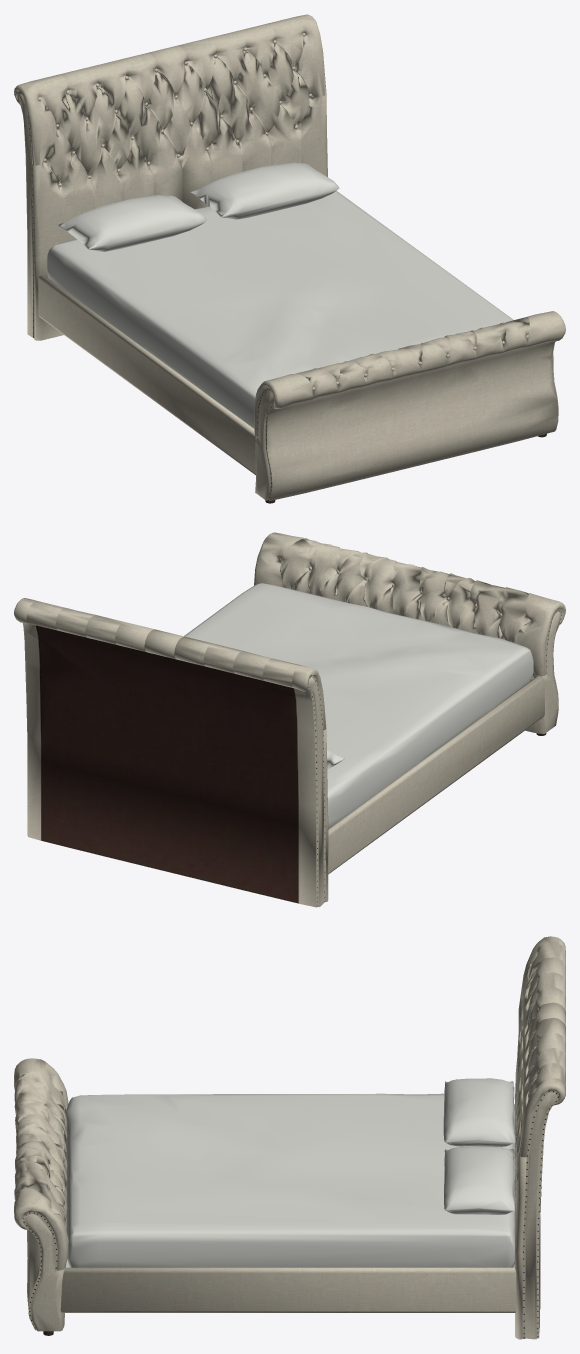
Rendered from B075QDTYGK.glb.
3 views of the same model, one above another, from view 1: azimuth 30°, elevation 25°; view 2: azimuth 150°, elevation 25°; view 3: azimuth 270°, elevation 25° (orthographic). The views are drawn at different scales.
Parts seen in each view (by area): view 1: RootNode; view 2: RootNode; view 3: RootNode.
Part boxes in pixels (x1,y1,x2,y2): RootNode: (14, 14, 565, 503); RootNode: (14, 532, 565, 907); RootNode: (14, 936, 565, 1339).
Size of the model in its own units: 1.61 by 1.27 by 2.49.
1 material, 1 textured.
